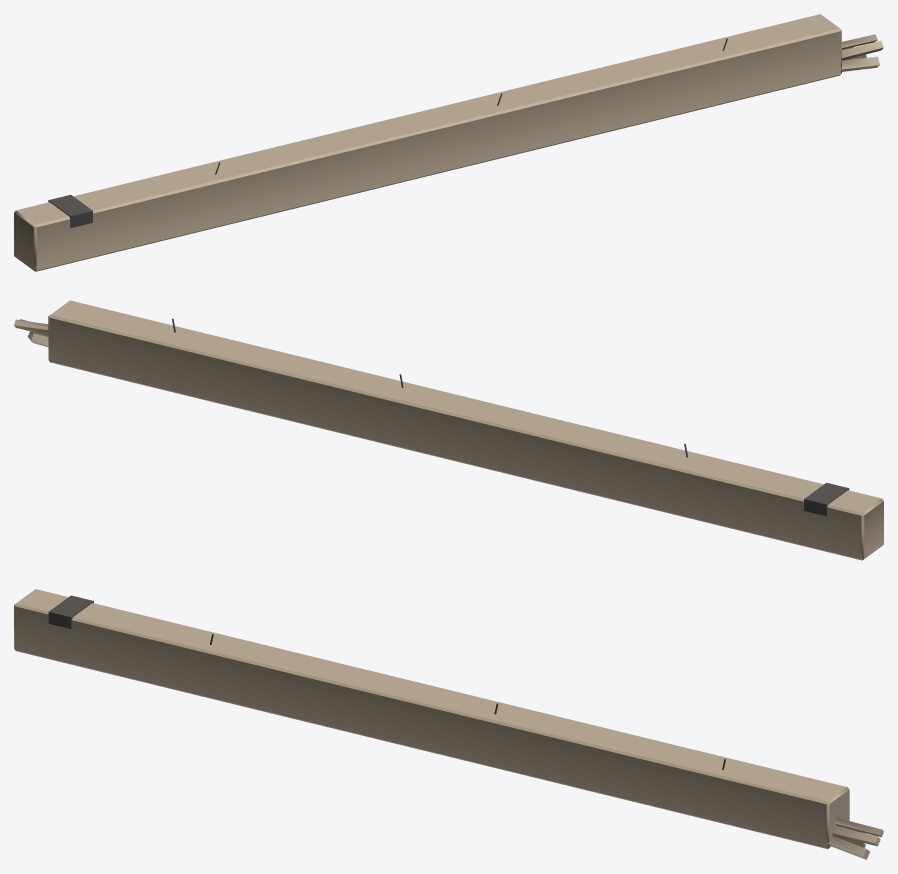
The model's file is beam_fallen.glb.
The picture shows the model from 3 angles, top to bottom: view 1: azimuth 30°, elevation 25°; view 2: azimuth 150°, elevation 25°; view 3: azimuth 330°, elevation 25°; orthographic projection.
Parts seen in each view (by area): view 1: static; view 2: static; view 3: static.
Part boxes in pixels (x1,y1,x2,y2): static: (14, 14, 883, 271); static: (14, 300, 883, 560); static: (14, 589, 883, 859).
Bounding box in the file's own units: 4.53 × 0.3106 × 0.2169.
